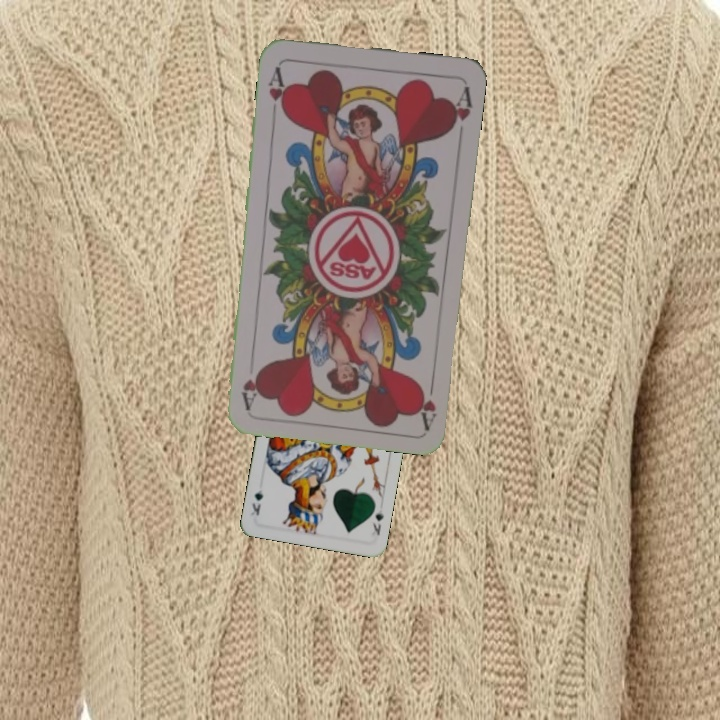GK: (368, 506, 386, 538)
HA: (413, 370, 439, 429), (264, 63, 290, 120)
